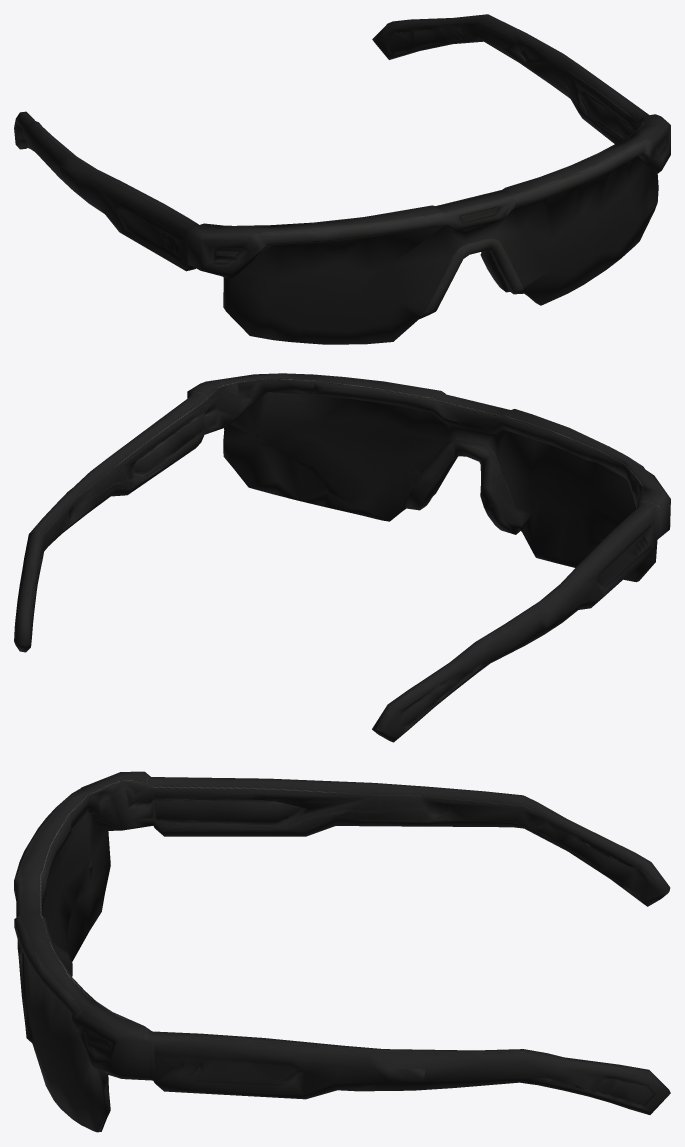
Rendered from Meshy_AI_ShadowShield_Sunglass_0512114918_texture.fbx.
The picture shows the model from 3 angles, top to bottom: view 1: azimuth 30°, elevation 25°; view 2: azimuth 150°, elevation 25°; view 3: azimuth 270°, elevation 25°; orthographic projection. The views are drawn at different scales.
Parts seen in each view (by area): view 1: Mesh_0; view 2: Mesh_0; view 3: Mesh_0.
Boxes of the visible parts, box(x1,y1,x2,y2) form: Mesh_0: box(14, 14, 670, 344); Mesh_0: box(14, 373, 670, 742); Mesh_0: box(14, 771, 670, 1132).
Size of the model in its own units: 191 by 48.12 by 191.
1 material, 1 textured.
